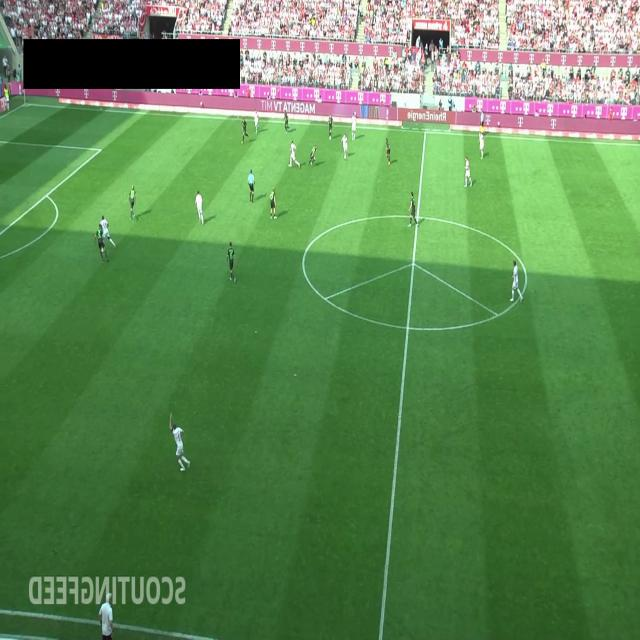ball: (344, 155, 346, 160)
player: (169, 412, 191, 472), (94, 223, 109, 262), (100, 215, 116, 248), (510, 260, 522, 302), (226, 241, 238, 282), (407, 191, 418, 227), (288, 140, 300, 169), (128, 184, 137, 220), (195, 190, 204, 225), (240, 117, 250, 145), (269, 186, 277, 219), (464, 156, 472, 188), (308, 144, 318, 167), (478, 130, 485, 160), (351, 110, 357, 142), (341, 133, 348, 160), (386, 138, 391, 165), (254, 108, 259, 134), (328, 114, 333, 140), (284, 111, 290, 131)
referee: (248, 169, 255, 203), (479, 108, 485, 136)
